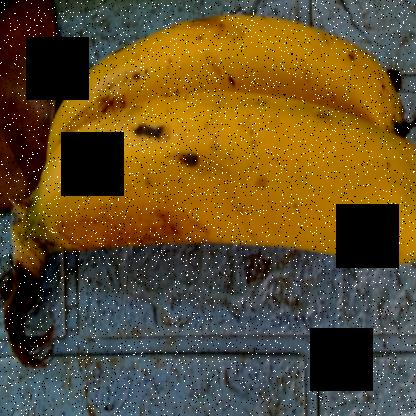ripe: (51, 103, 415, 274), (35, 14, 408, 136)
